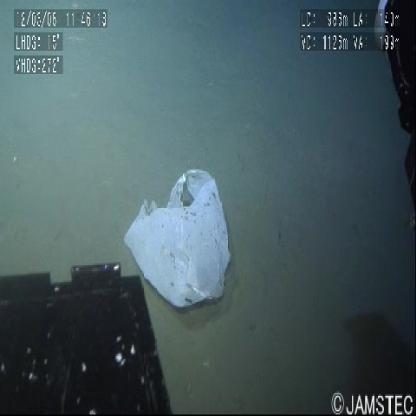Rov: (3, 251, 173, 416), (375, 5, 416, 216)
Rác: (123, 165, 244, 316)
